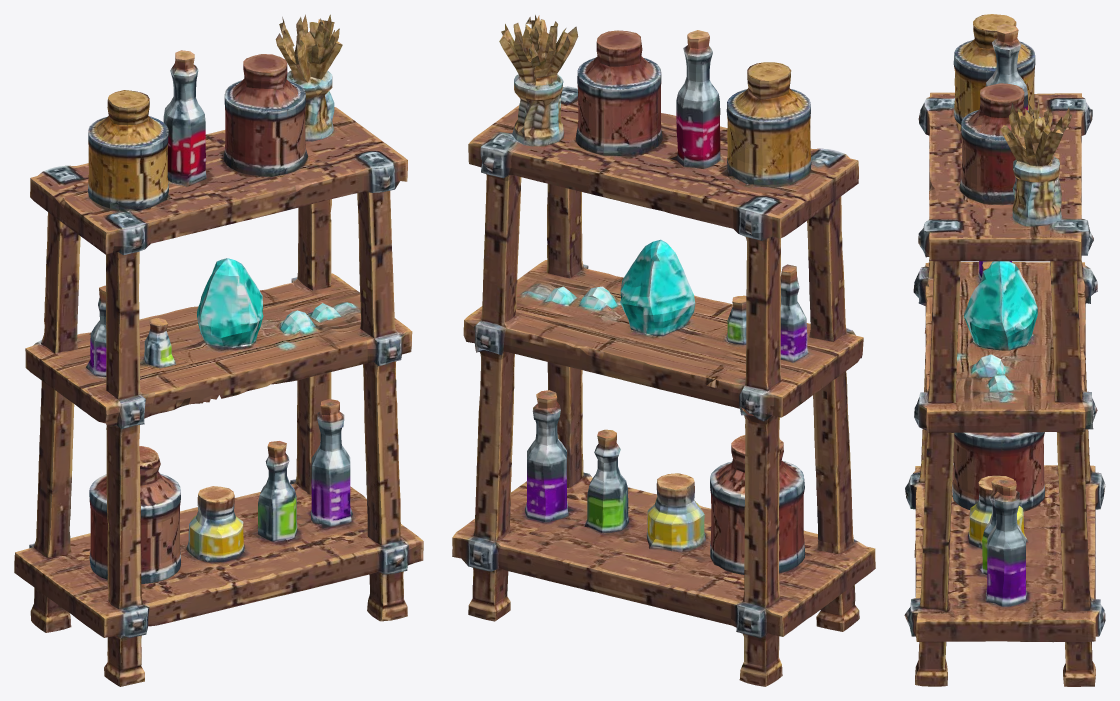
The model's file is alchemy_shelf.glb.
3 renders of one model, left to right at view 1: azimuth 30°, elevation 25°; view 2: azimuth 150°, elevation 25°; view 3: azimuth 270°, elevation 25°, orthographic. The views are drawn at different scales.
Size of the model in its own units: 1.12 by 1.91 by 0.608.
Materials: 1 (1 with a texture image).
